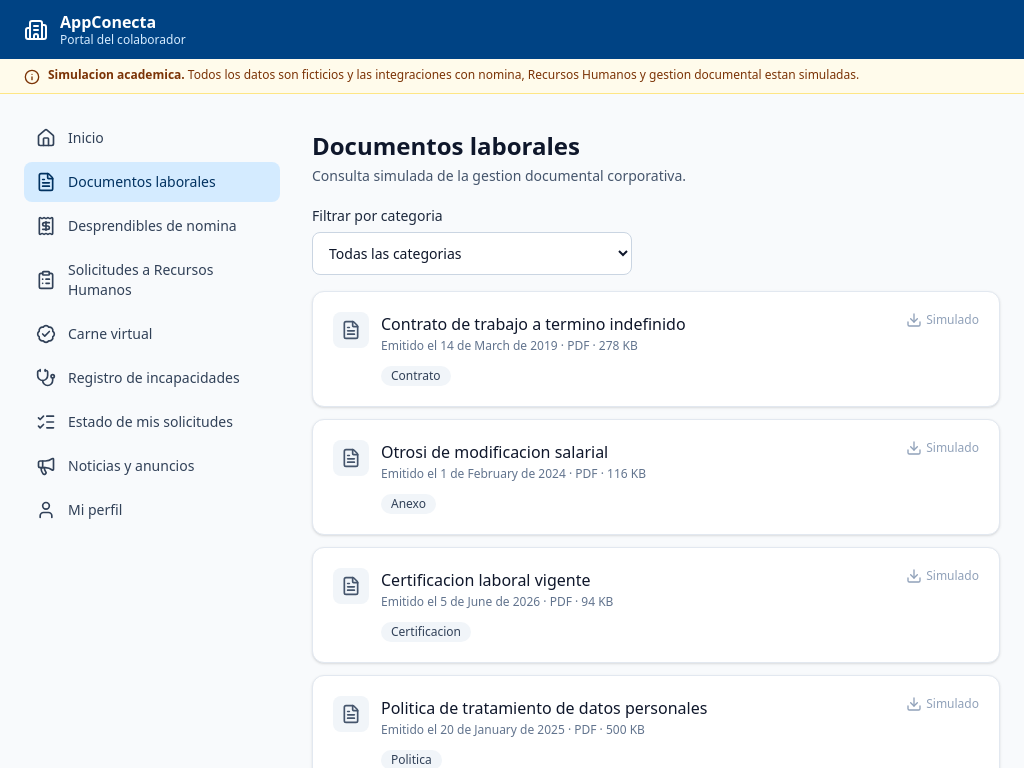
Test case: Consulta de documentos laborales › filtra los documentos por categoria
The width and height of the screenshot is (1024, 768).
Select "Certificaciones" in the dropdown labelled "Filtrar por categoria" at (472, 254), box [312,232,632,275]
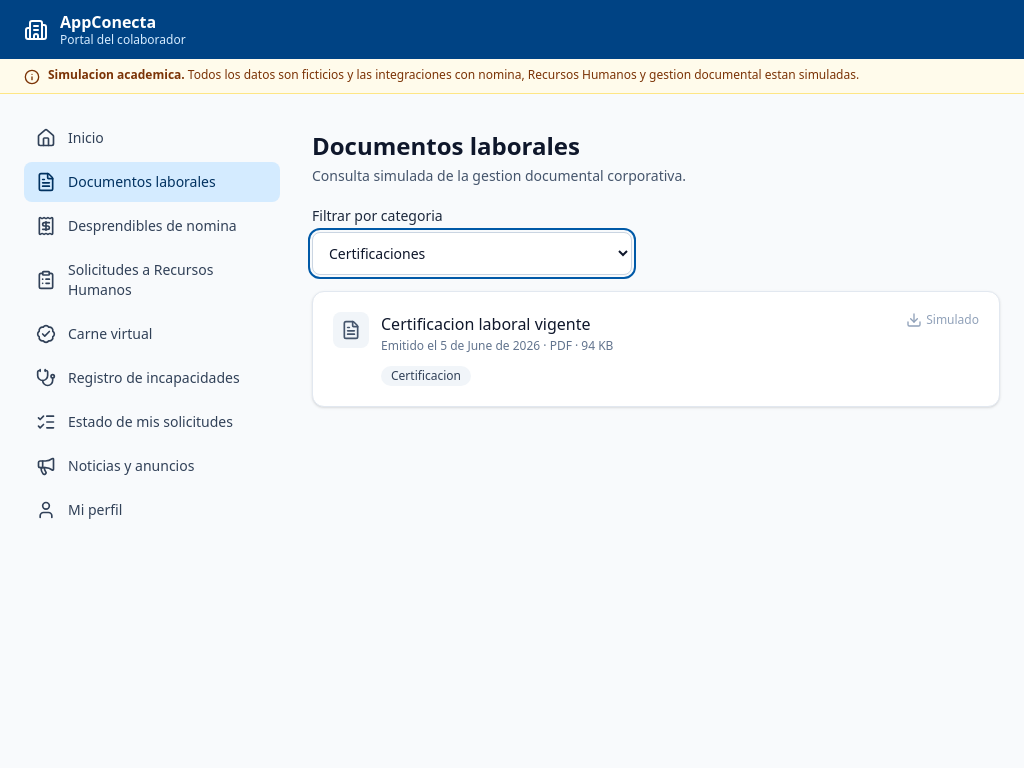
Expected: the text "Certificacion laboral vigente" is shown, [381,313,590,335]
Now the text "Contrato de trabajo a termino indefinido" is gone
